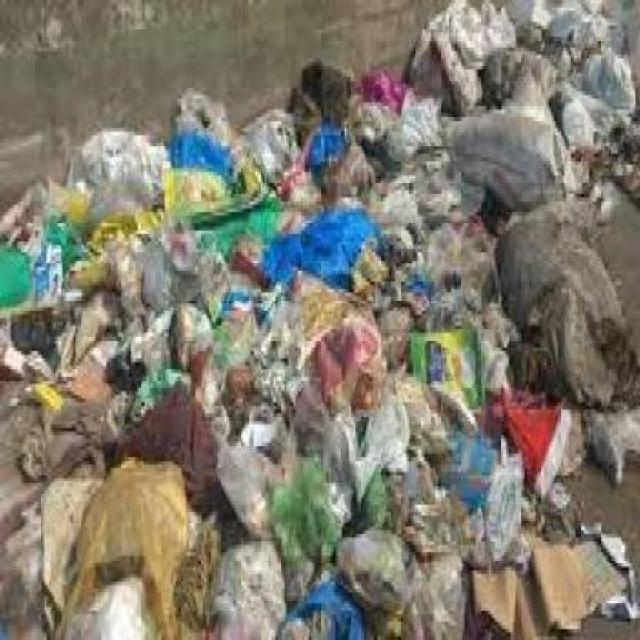garbage: (0, 161, 633, 636), (174, 88, 636, 220), (398, 0, 638, 95)
